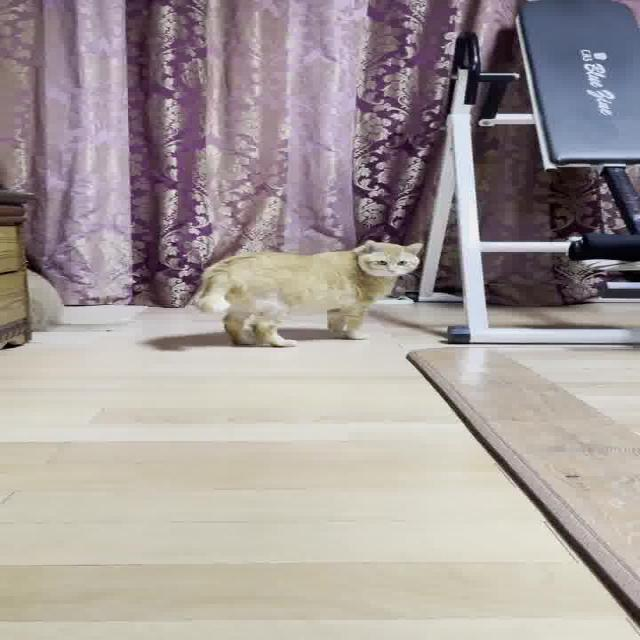cat: (150, 229, 458, 362)
